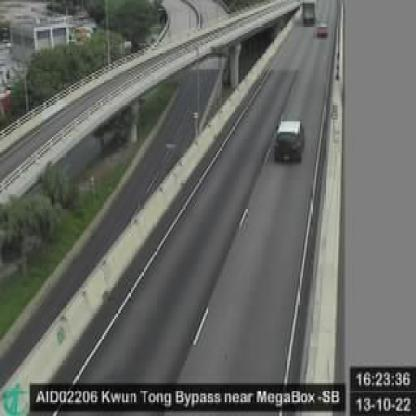Car: (272, 118, 304, 165), (317, 23, 330, 38)
Truck: (302, 1, 316, 24)
